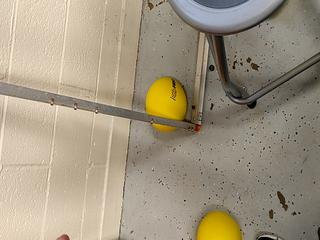power_cell: (143, 68, 195, 135), (195, 205, 250, 240)
